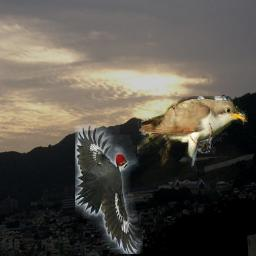Cuckoo: (137, 96, 248, 171)
Woodpecker: (75, 124, 143, 254)
